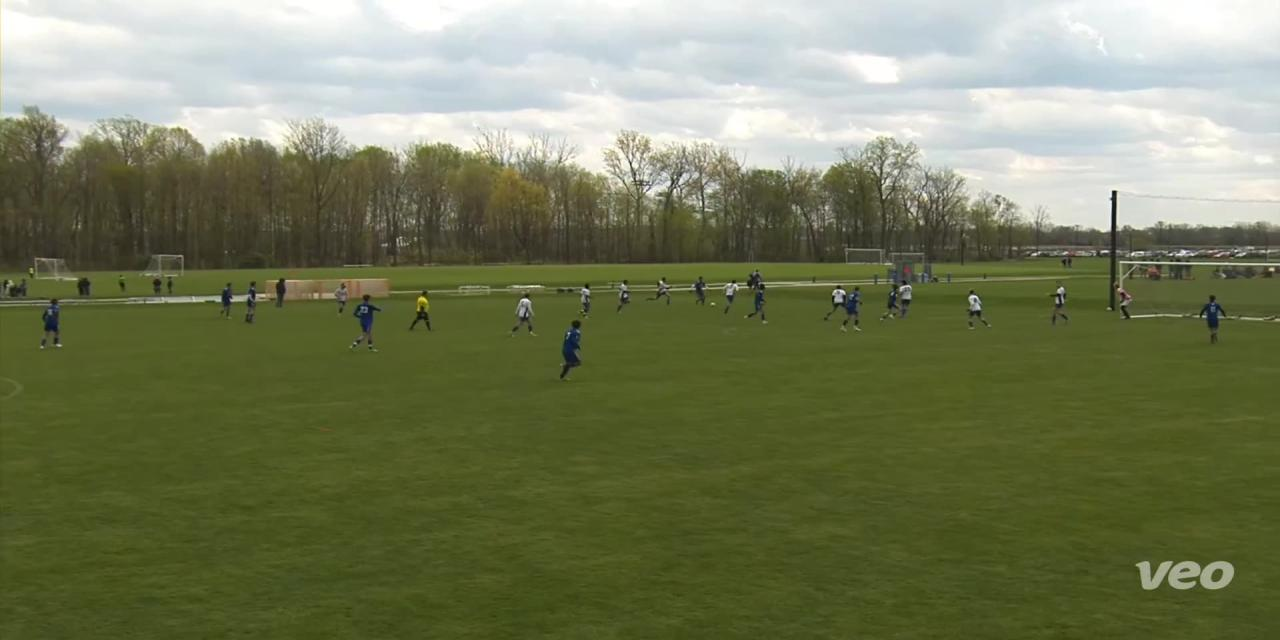goal: (1091, 251, 1280, 327)
sports ball: (702, 292, 726, 315)
